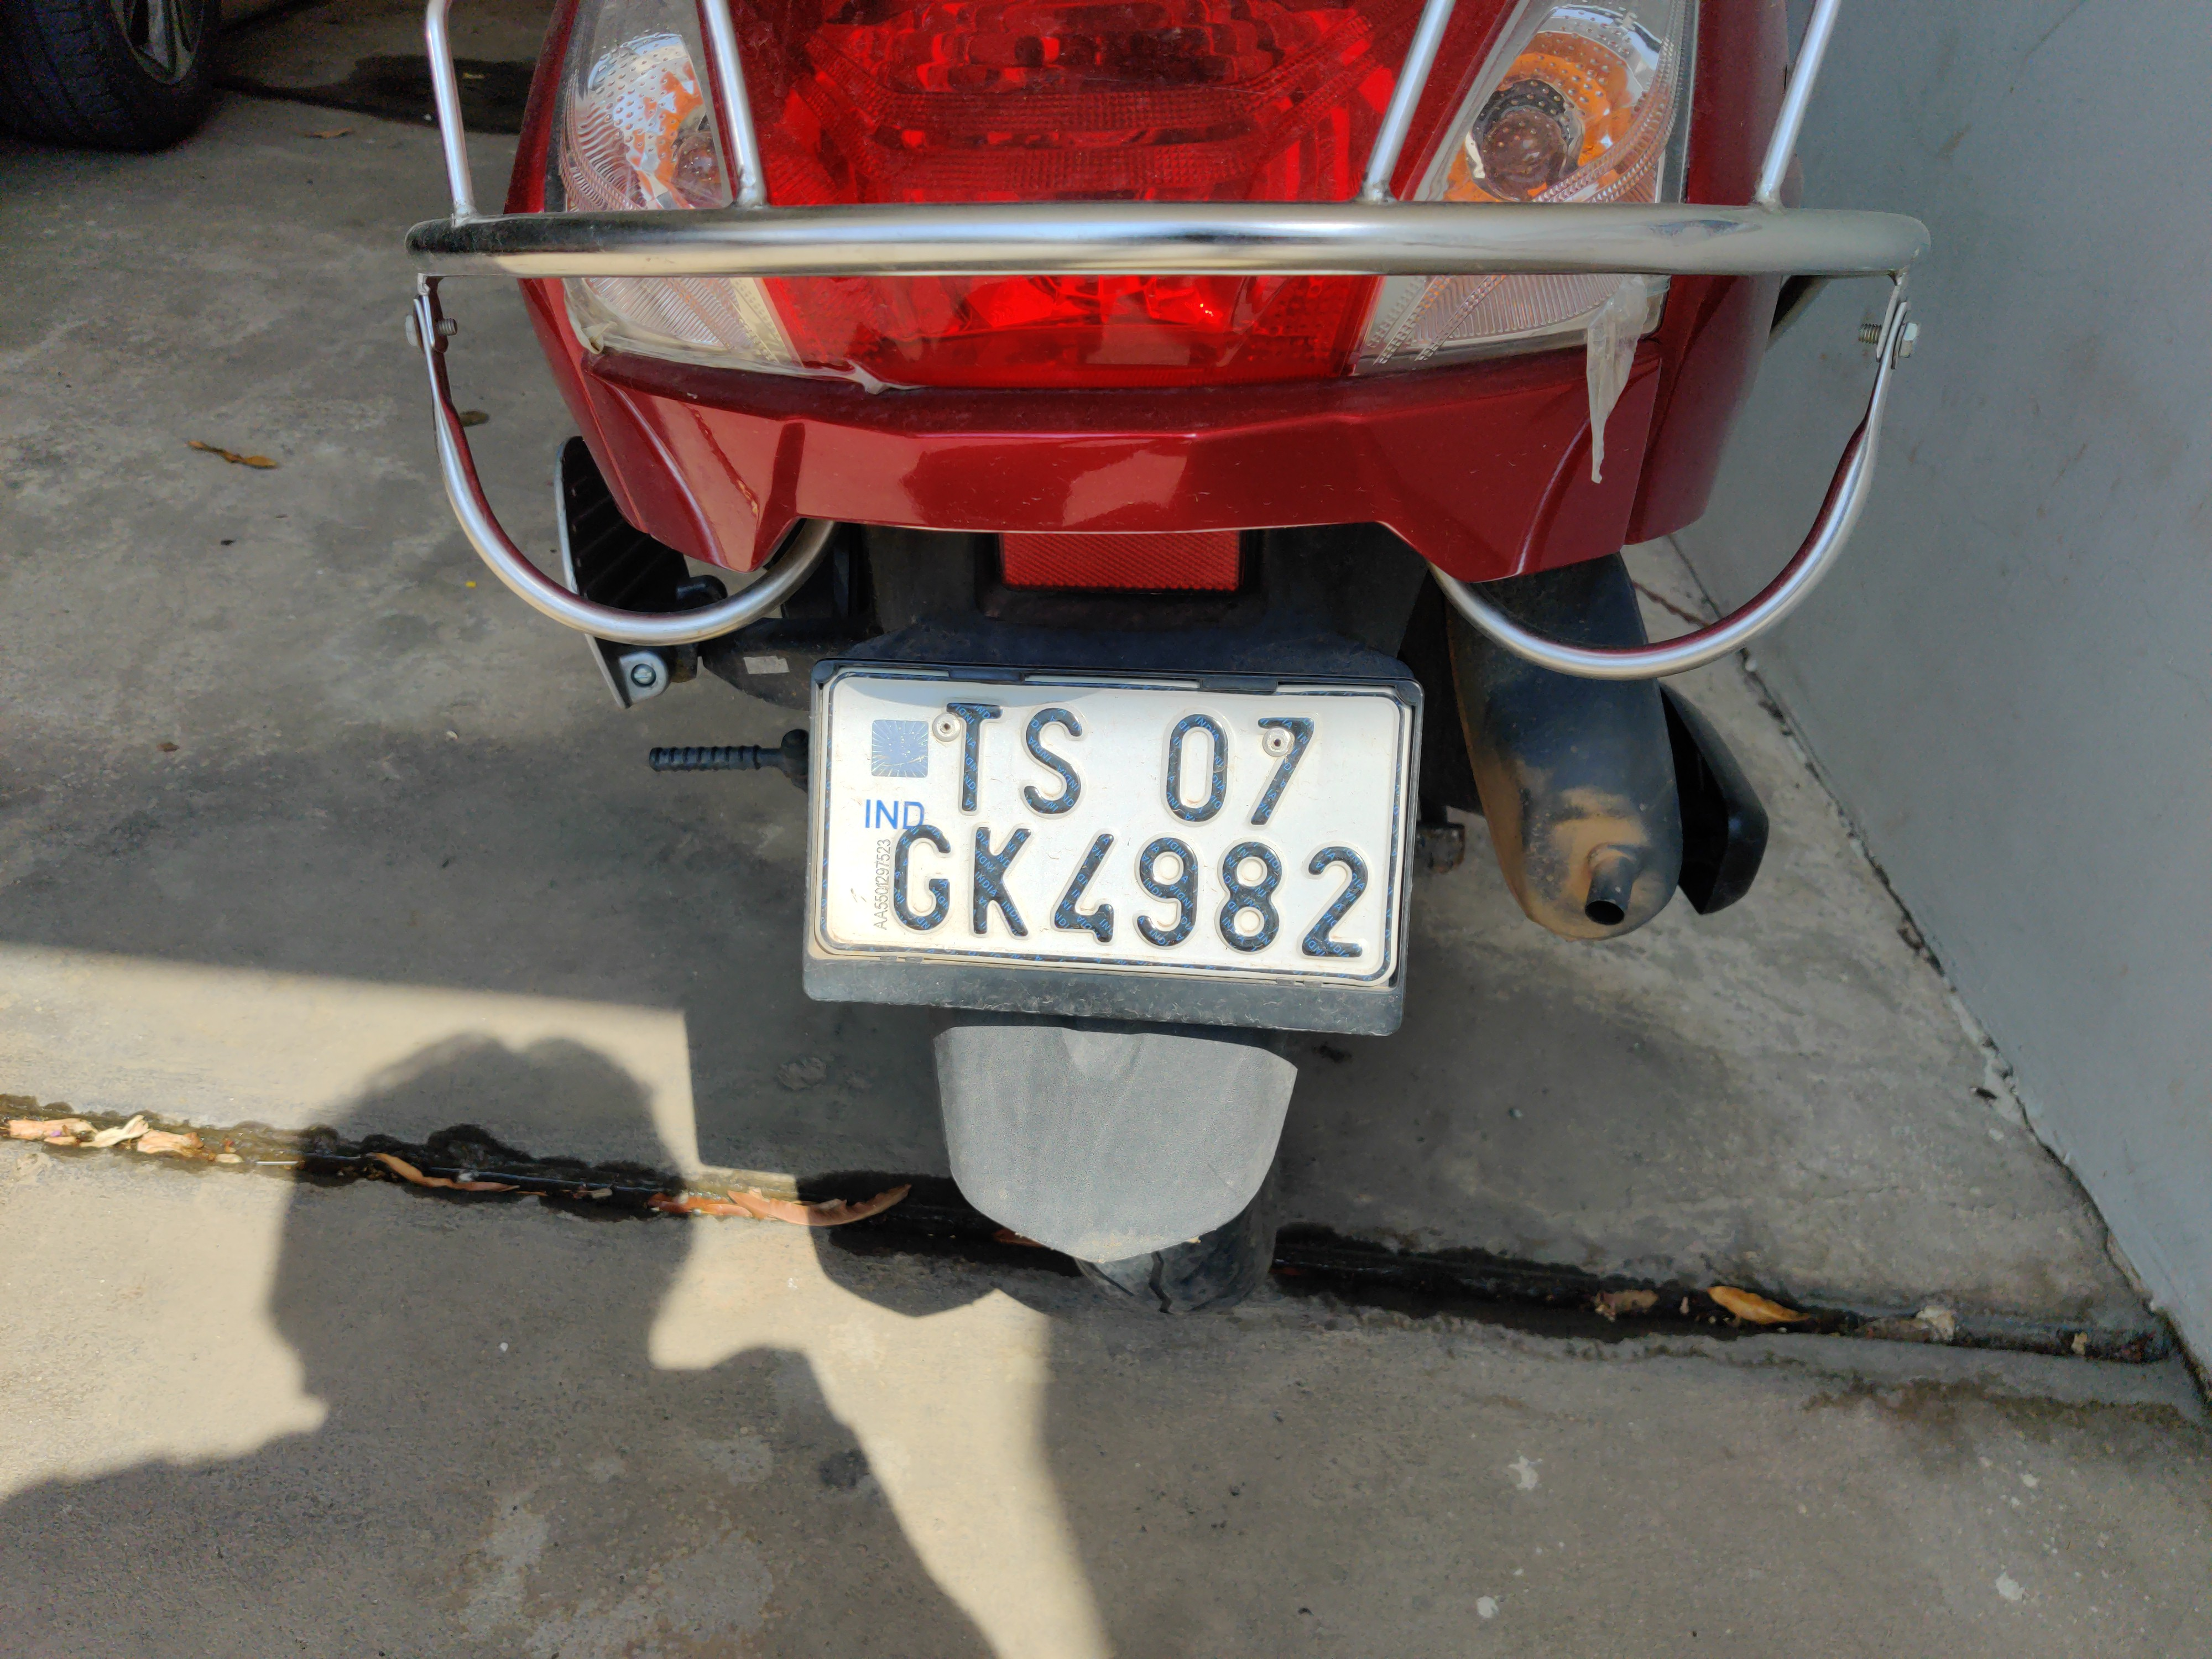plate: (788, 639, 1468, 1070)
